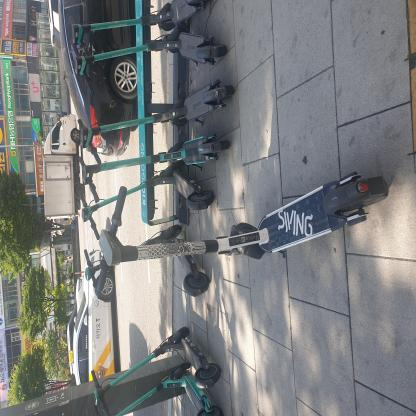kickboard: (75, 105, 191, 416)
